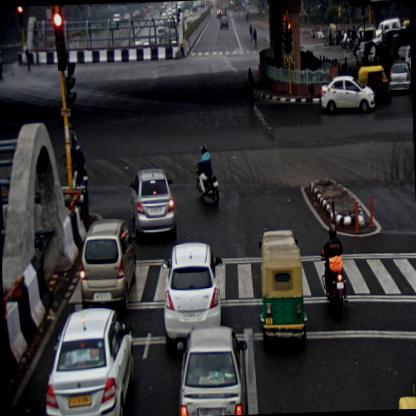car: (41, 305, 137, 415), (160, 241, 226, 355), (173, 325, 249, 415), (79, 217, 138, 317), (127, 167, 178, 242), (319, 74, 376, 114), (389, 60, 411, 96), (393, 44, 412, 84), (368, 45, 392, 68), (354, 42, 378, 64)
motorcycle: (320, 222, 346, 320), (196, 143, 220, 207), (72, 144, 90, 201)
